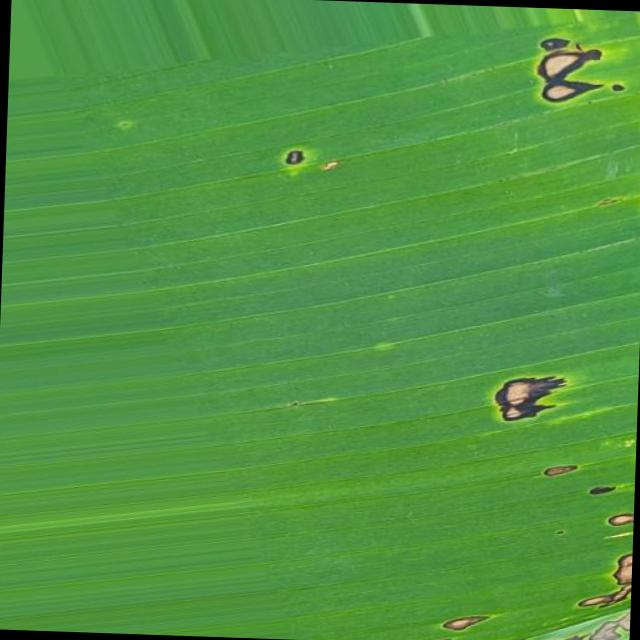Banana_Black_Sigatoka: (474, 333, 639, 640), (482, 7, 640, 139), (248, 106, 360, 206)
